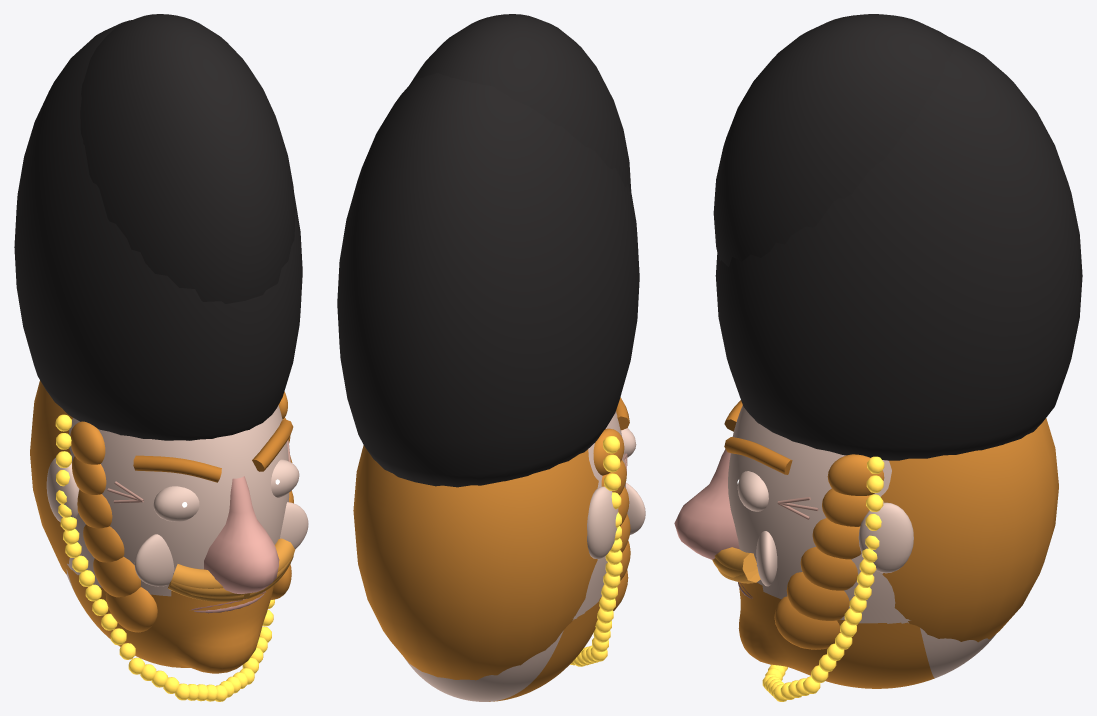
The model's file is sergeant_teile.glb.
3 renders of one model, left to right at view 1: azimuth 30°, elevation 25°; view 2: azimuth 150°, elevation 25°; view 3: azimuth 270°, elevation 25°, orthographic. The views are drawn at different scales.
Visible parts, largest first — view 1: fell, fell.001, kopfhaut, unterkiefer, nase, haar_kurz, bart, backenbart, wange_r, backenbart.001, braue_r, lid_r (+9 smaller); view 2: fell, haar_kurz, fell.001, kopfhaut, unterkiefer, ohr, backenbart.005, wange_r; view 3: fell, fell.001, haar_kurz, kopfhaut, unterkiefer, nase, ohr.001, backenbart.006, backenbart.007, backenbart.008, backenbart.011, backenbart.009 (+5 smaller).
Part boxes in pixels (x1,y1,x2,y2): fell: [14, 20, 302, 440]; fell.001: [80, 14, 294, 303]; kopfhaut: [66, 405, 289, 608]; unterkiefer: [67, 563, 273, 673]; nase: [204, 476, 279, 593]; haar_kurz: [30, 380, 72, 574]; bart: [168, 564, 245, 601]; backenbart: [105, 587, 157, 632]; wange_r: [134, 534, 174, 586]; backenbart.001: [93, 556, 140, 597]; braue_r: [133, 455, 221, 482]; lid_r: [153, 486, 199, 521]; fell: [337, 73, 639, 487]; haar_kurz: [353, 445, 598, 680]; fell.001: [410, 14, 631, 195]; kopfhaut: [404, 411, 625, 701]; unterkiefer: [489, 584, 604, 701]; ohr: [587, 486, 618, 559]; backenbart.005: [593, 428, 624, 475]; wange_r: [626, 483, 645, 534]; fell: [715, 36, 1082, 460]; fell.001: [713, 14, 953, 266]; haar_kurz: [881, 418, 1058, 642]; kopfhaut: [728, 405, 995, 678]; unterkiefer: [738, 565, 934, 688]; nase: [674, 449, 739, 559]; ohr.001: [858, 502, 913, 573]; backenbart.006: [774, 596, 840, 649]; backenbart.007: [786, 572, 849, 620]; backenbart.008: [800, 547, 857, 590]; backenbart.011: [827, 454, 884, 495]; backenbart.009: [812, 518, 861, 559].
Bounding box in the file's own units: 0.26 × 0.6945 × 0.3828.
